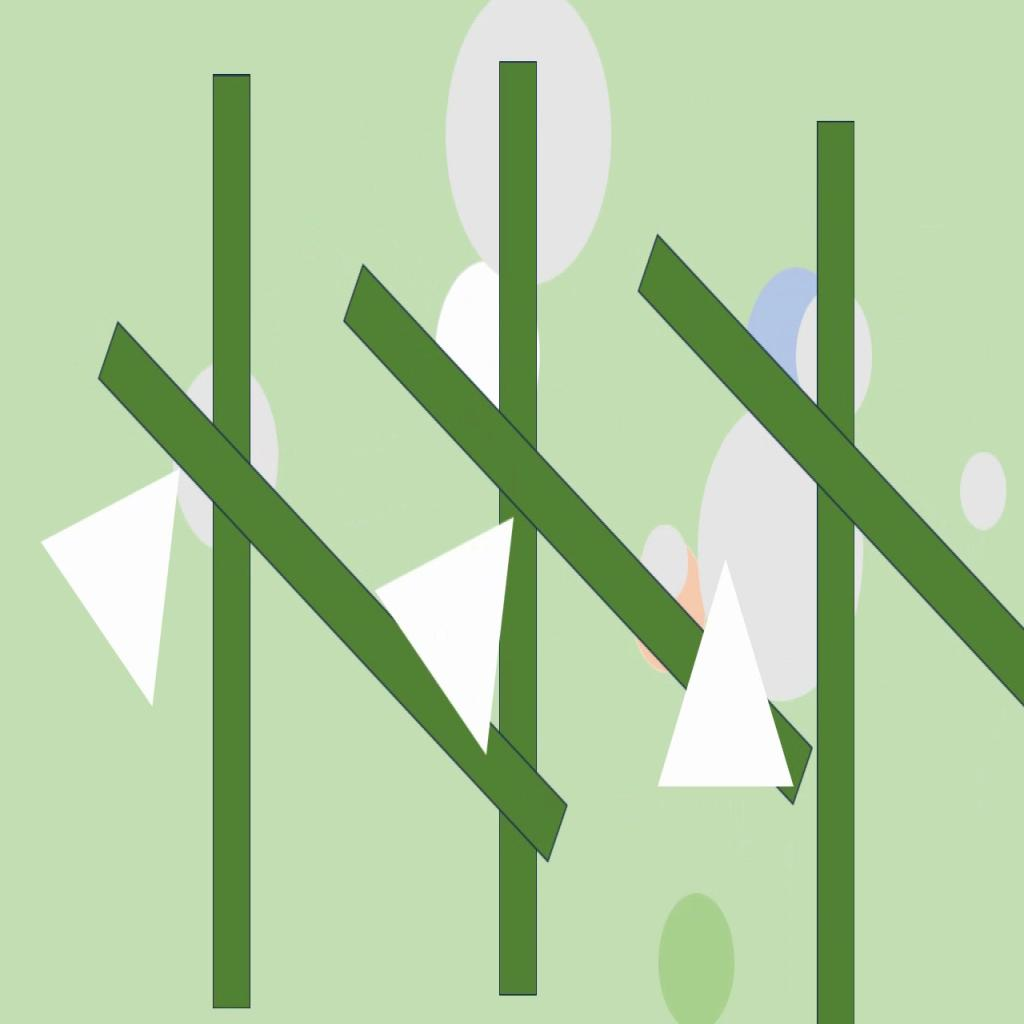Circle: (699, 401, 866, 706), (444, 0, 614, 290), (173, 363, 278, 549), (435, 261, 542, 430), (748, 263, 841, 442), (796, 290, 874, 425), (658, 892, 736, 1024), (635, 544, 707, 674), (958, 448, 1008, 533), (639, 522, 689, 606)
